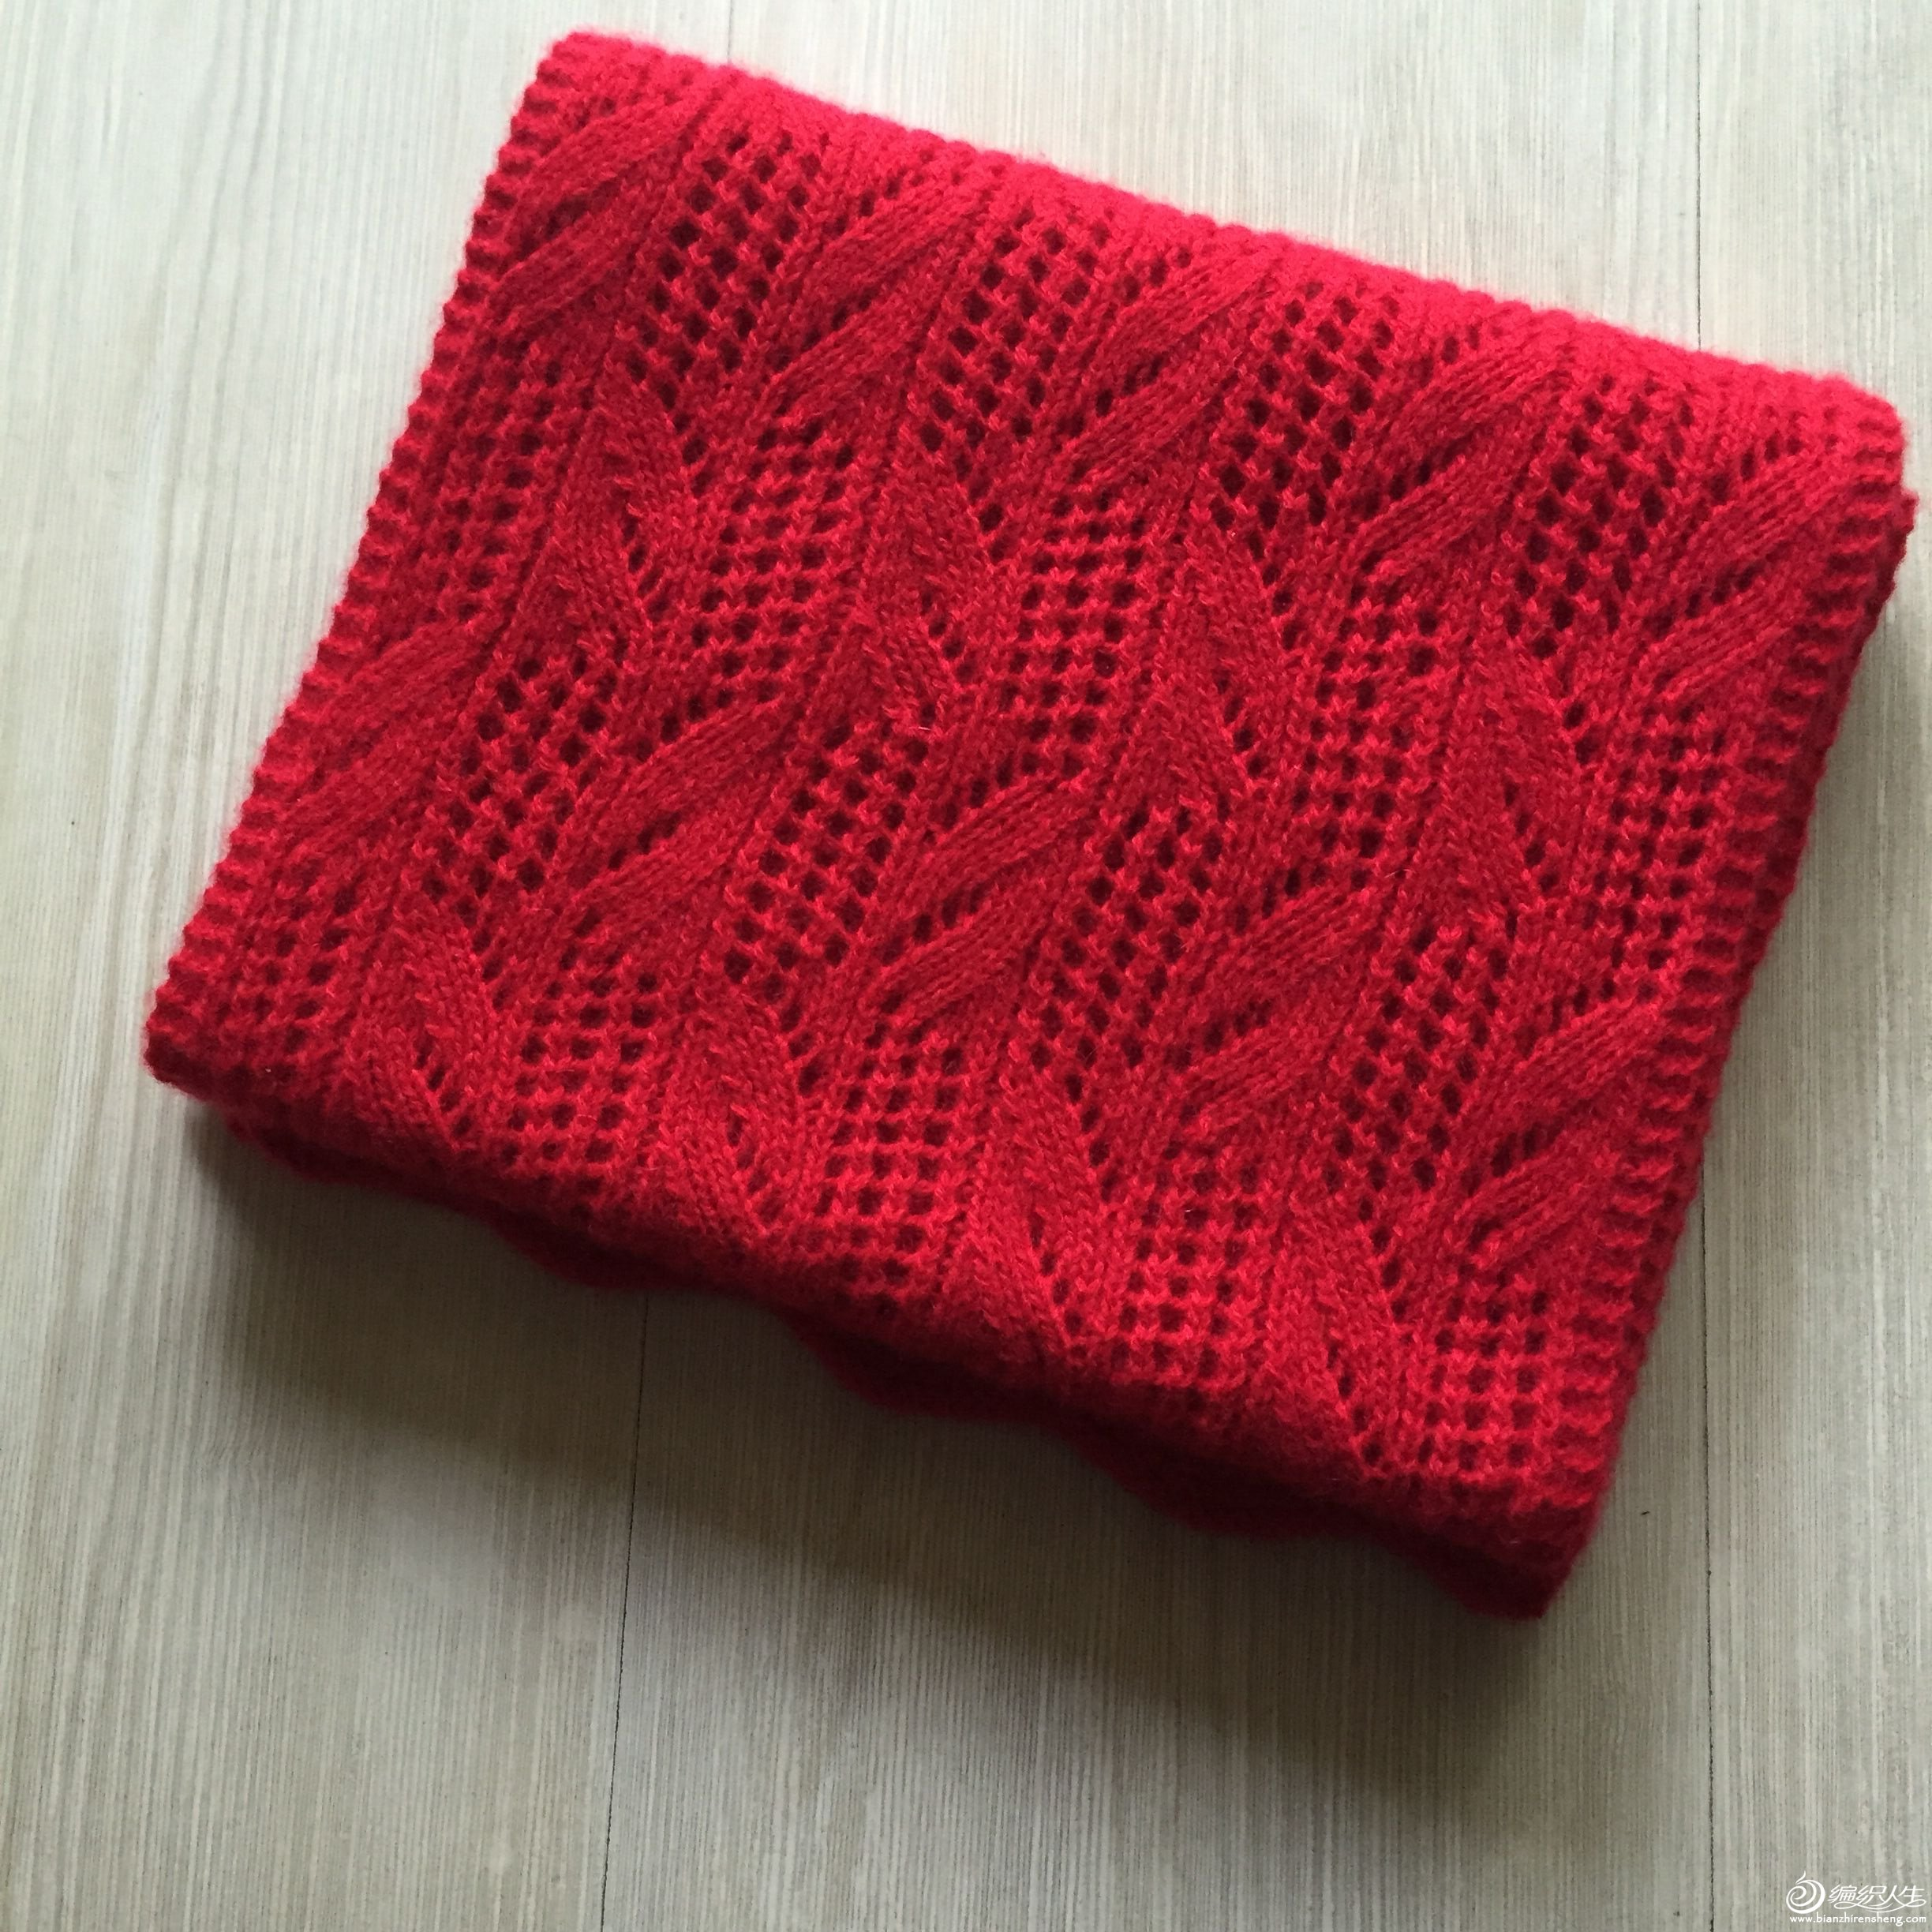flexible: (161, 18, 1890, 1587)
